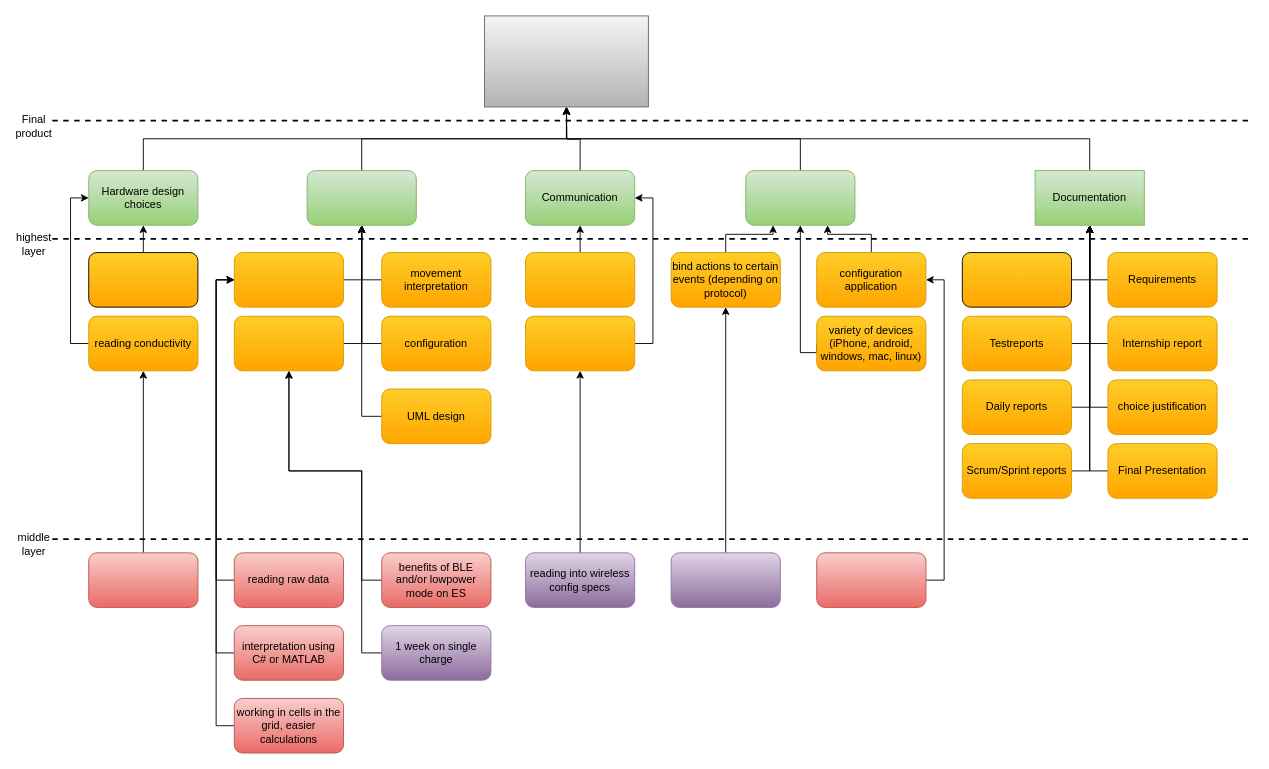
This 1269x769 diagram has some shape labels left out. Here are the shapes that lost their labels. From the top down, the centre of each, then its label:
At (566,61): "Soft textile touch".
At (361,197): "Firmware".
At (800,197): "Host".
At (143,279): "PCB design".
At (288,279): "interaction capture".
At (580,279): "Implementation of given protocol/interface".
At (1016,279): "PID".
At (288,343): "energy management".
At (580,343): "transmit protocol over interface".
At (143,579): "Ic or in code?".
At (725,579): "HID commands are directly dealt with due to device drivers".
At (871,579): "Adding keystrokes to received information".
